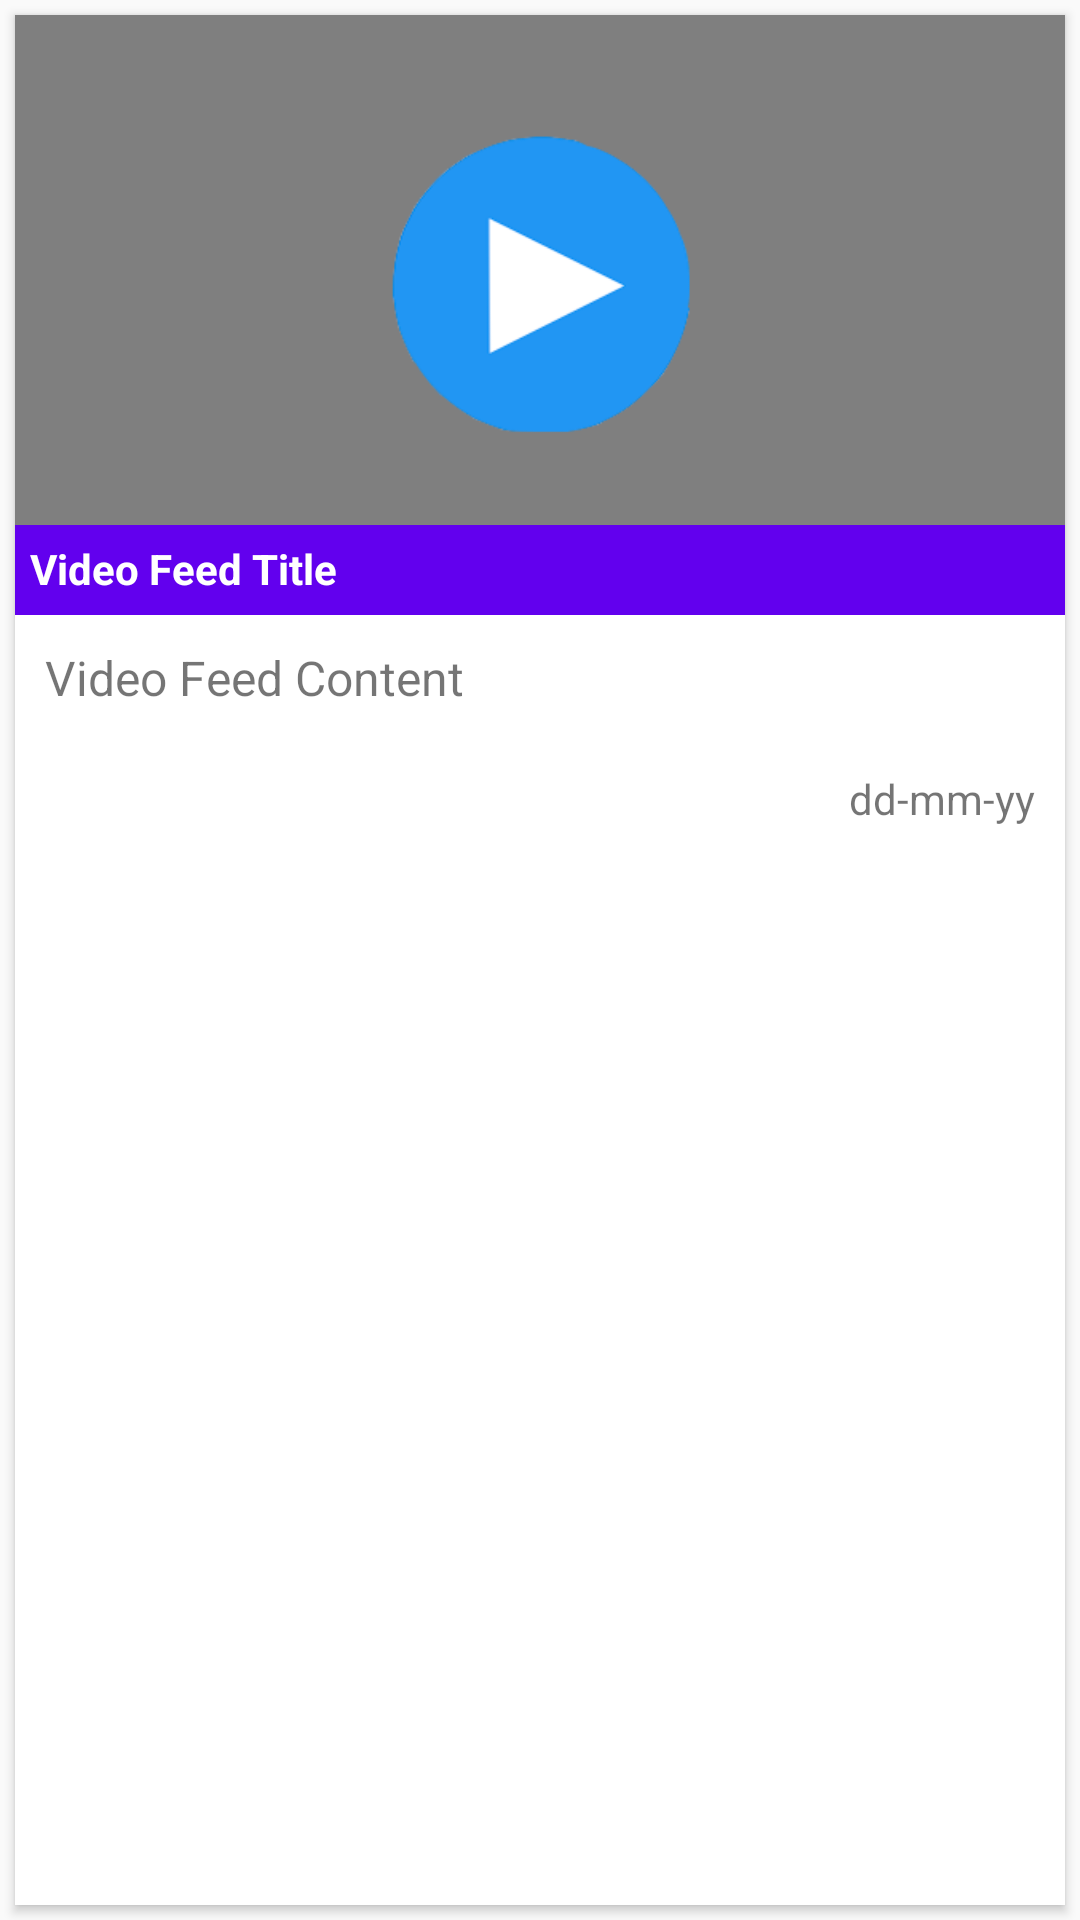

Where to tap for icons on this 1080px×1920px app screen, as (x=x, y=y):
play sign: (x=541, y=284)
